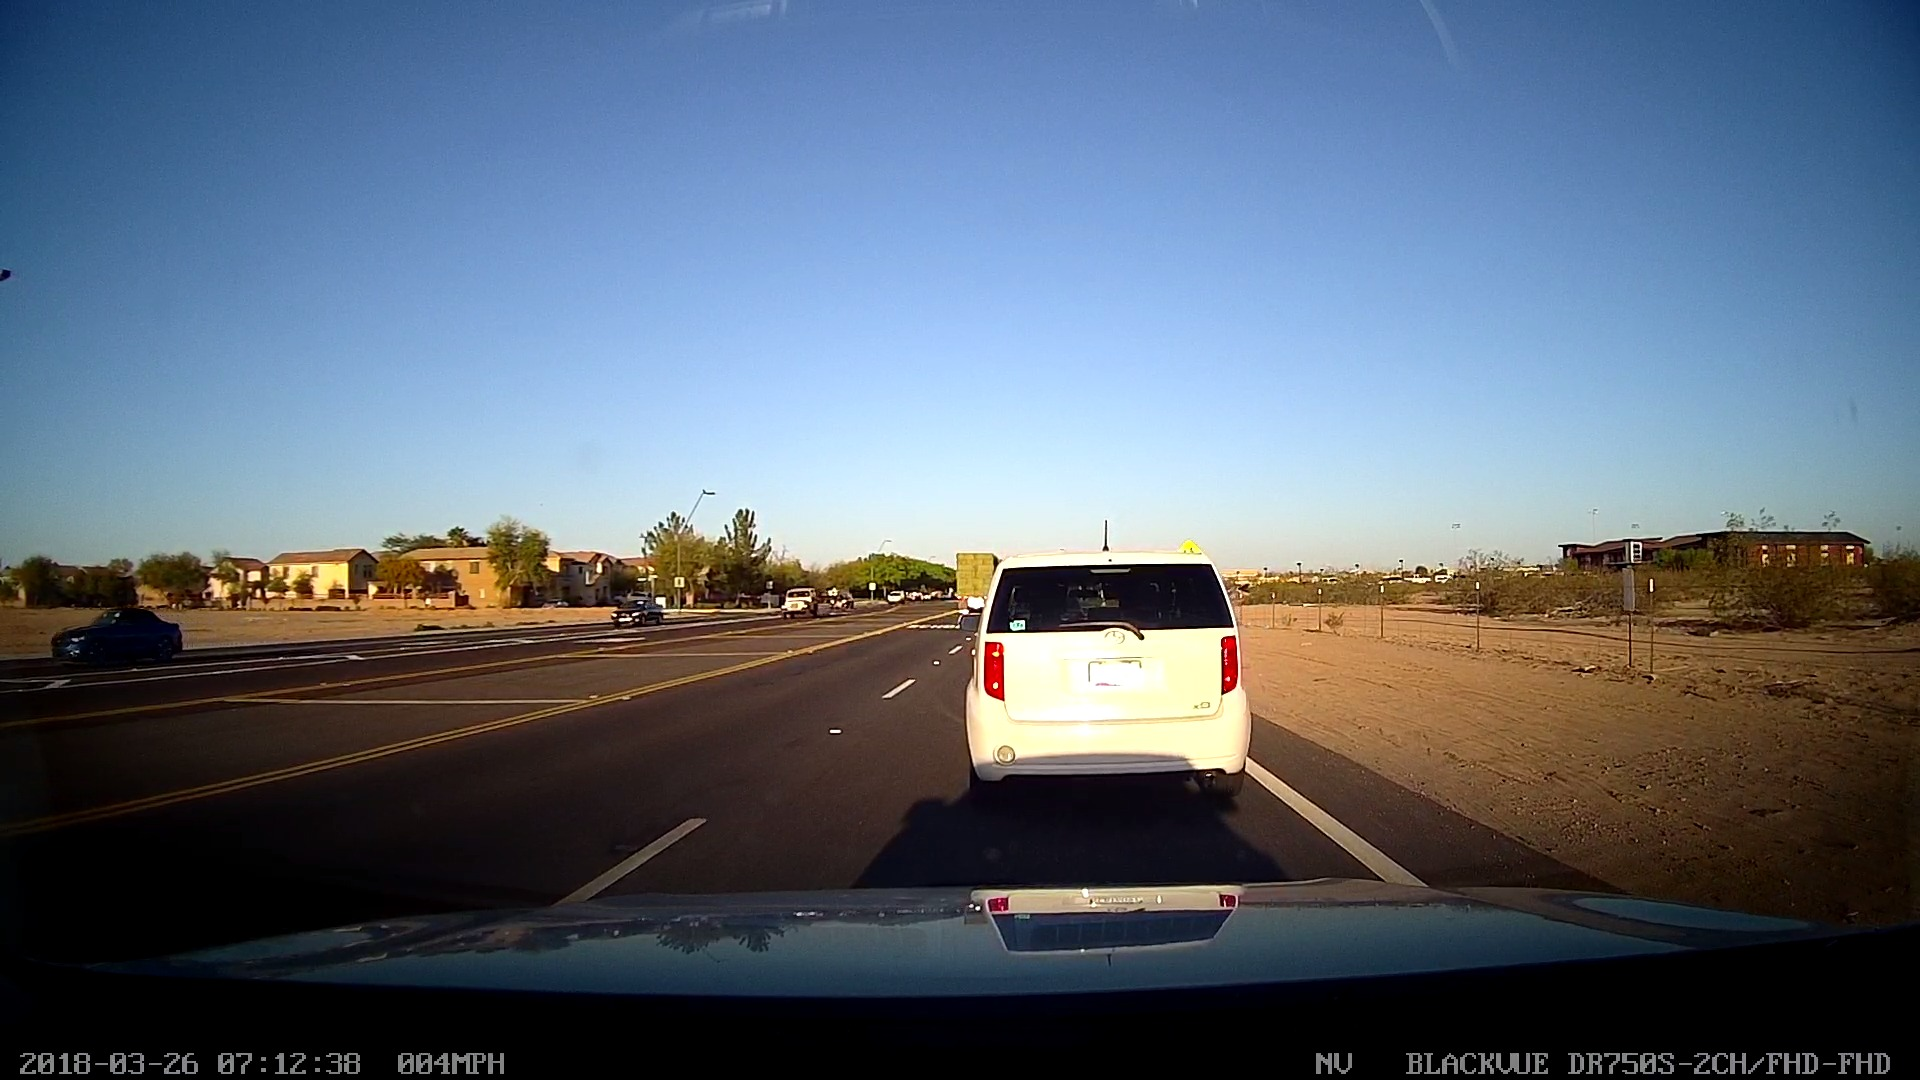plate: (1084, 654, 1153, 692)
vehicle: (960, 544, 1248, 804), (45, 607, 188, 673), (610, 594, 662, 630), (772, 582, 818, 620)
